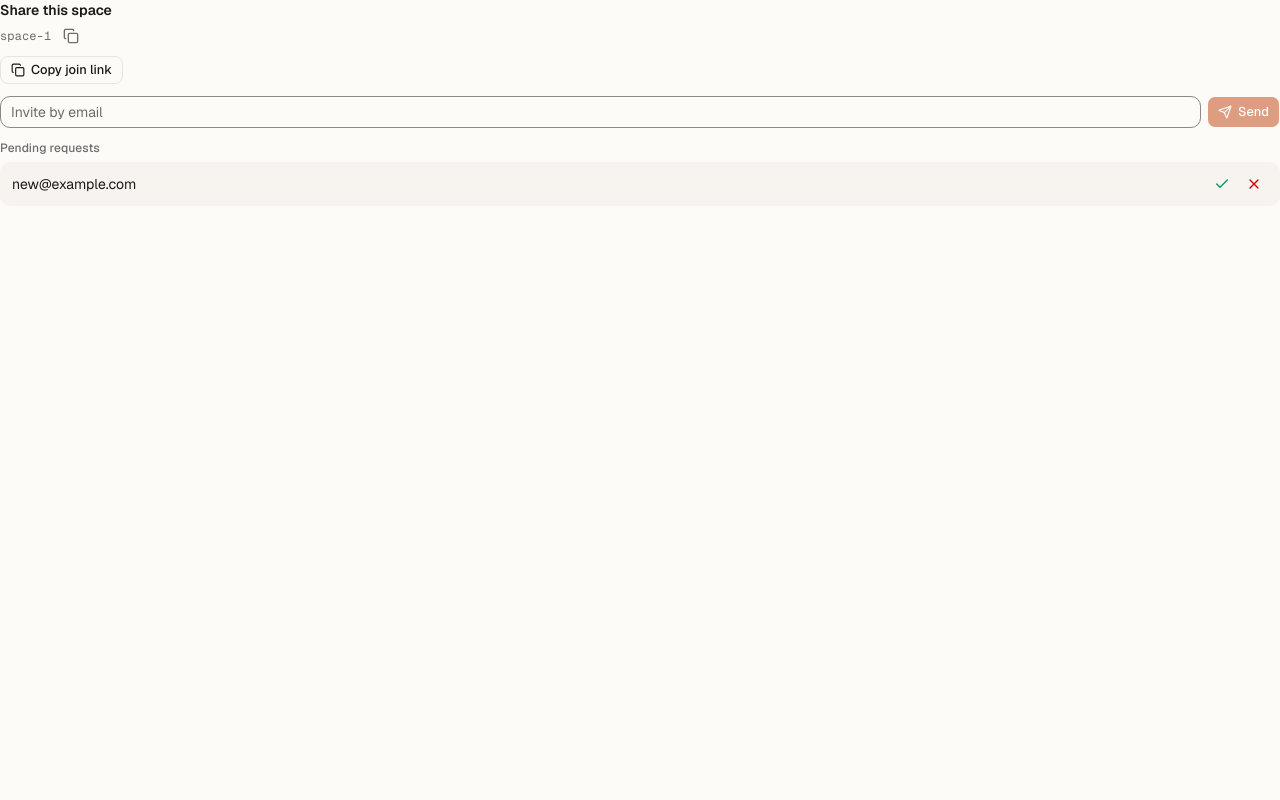
Test case: SpaceSharingSection confirm popups › stays open with the server message when the action is refused
Click the button named "Reject request". click: click(1254, 184)
box: [1240,170,1268,198]
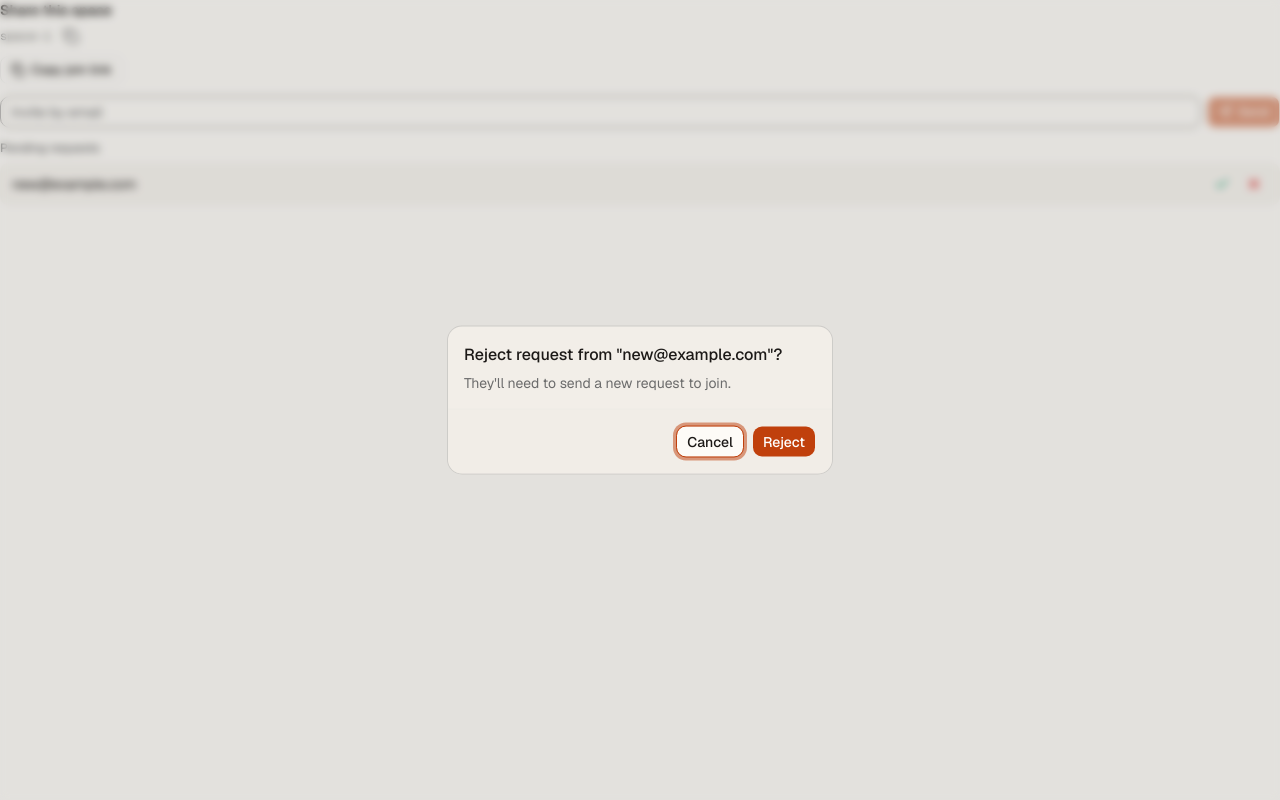
Check: the heading "Reject request from \"new@example.com\"?" is shown, box [464,342,782,366]
Click the button "Reject". click: click(784, 442)
box: [752,426,816,458]
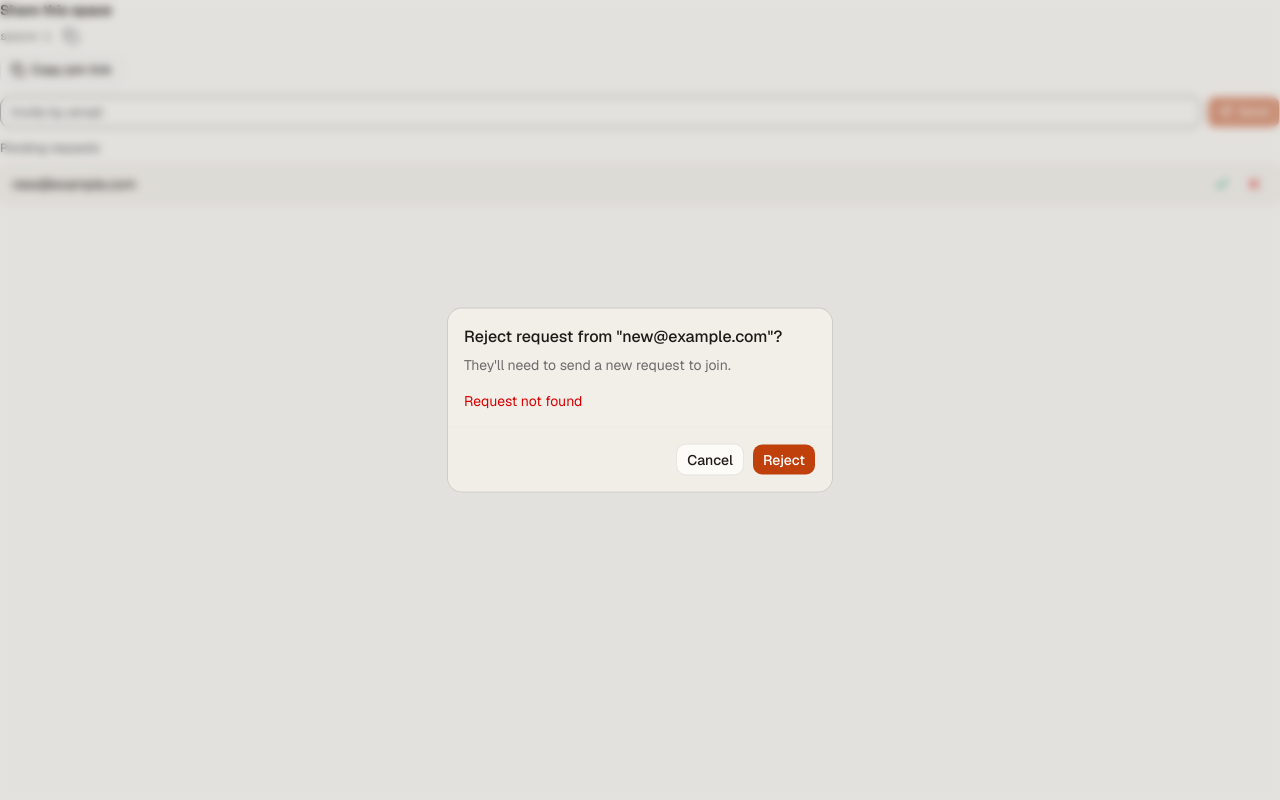
Check: the heading "Reject request from \"new@example.com\"?" is shown, box [464,324,782,348]
Check: the button "Reject" is enabled, box [752,444,816,476]
Check: the text "Request not found" is shown, box [464,392,582,410]
